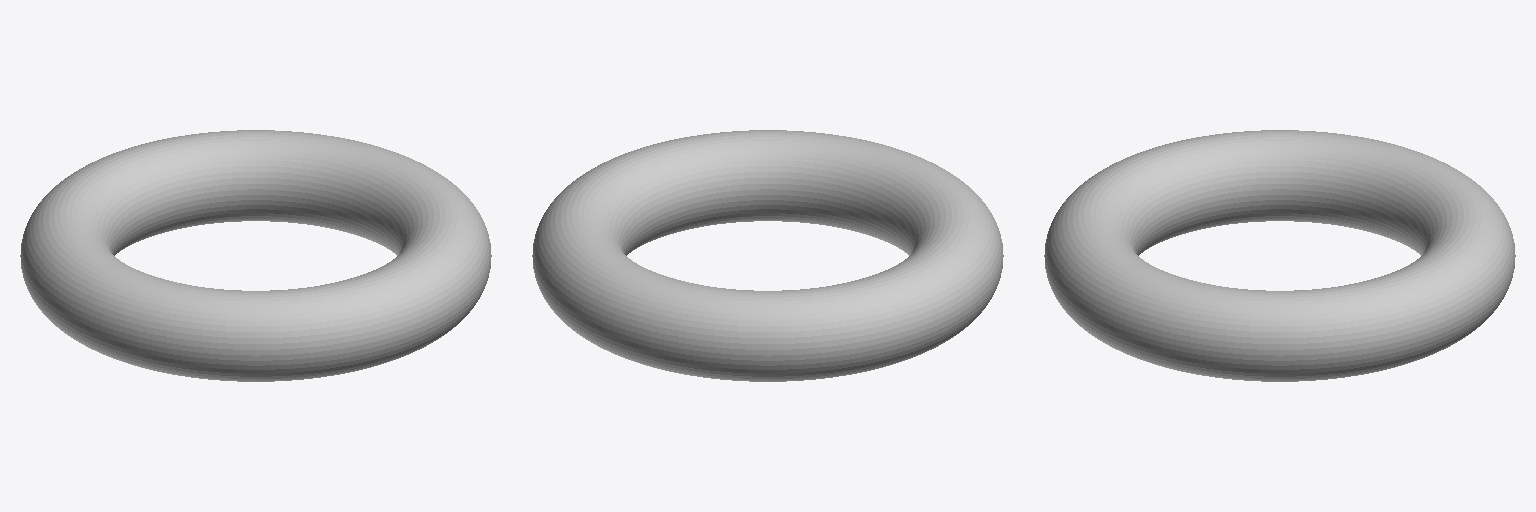
Rendered from donut.obj.
3 views of the same model, side by side, from view 1: azimuth 30°, elevation 25°; view 2: azimuth 150°, elevation 25°; view 3: azimuth 270°, elevation 25° (orthographic).
Visible parts, largest first — view 1: Torus; view 2: Torus; view 3: Torus.
Boxes of the visible parts, box(x1,y1,x2,y2) form: Torus: box(20, 130, 491, 381); Torus: box(532, 130, 1003, 381); Torus: box(1044, 130, 1515, 381).
Bounding box in the file's own units: 2.47 × 0.4791 × 2.47.